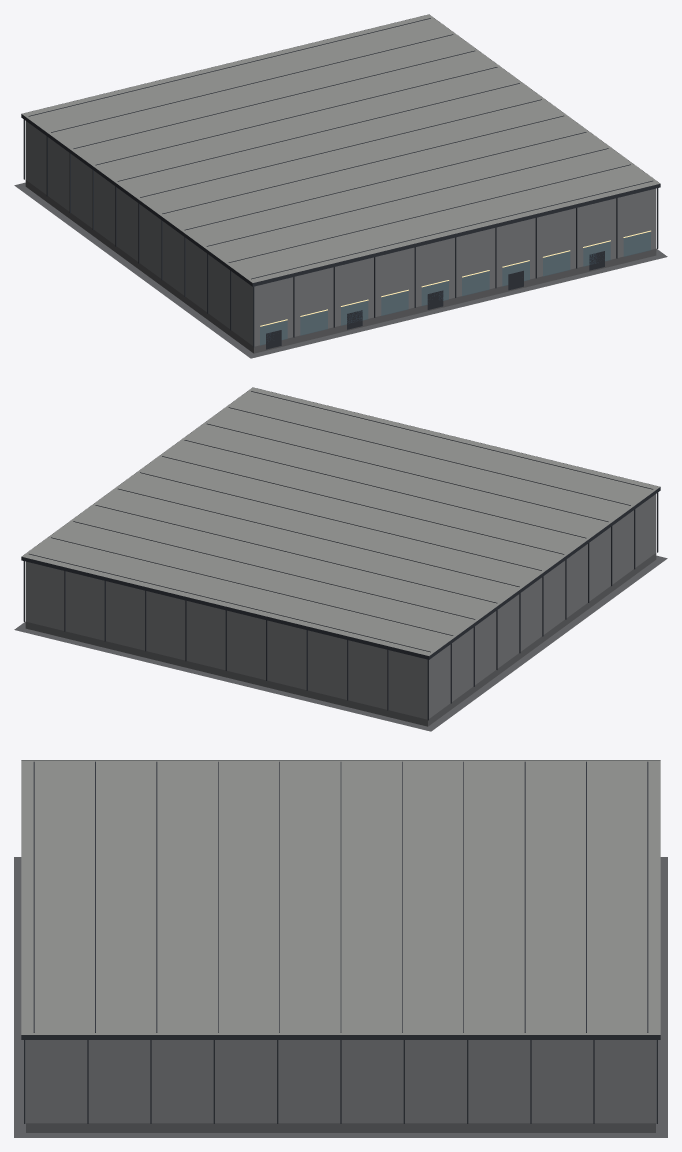
Rendered from shell.glb.
3 renders of one model, top to bottom at view 1: azimuth 30°, elevation 25°; view 2: azimuth 150°, elevation 25°; view 3: azimuth 270°, elevation 25°, orthographic. The views are drawn at different scales.
Parts seen in each view (by area): view 1: shell_roof_canopy, shell_bowl_mass_cladding, shell_roof_canopy_fascia, shell_bowl_mass_suite_glass_lobby, shell_bowl_mass_plinth, shell_field_floor_apron, shell_bowl_mass_facade_panels, shell_bowl_mass_portal_frames; view 2: shell_roof_canopy, shell_bowl_mass_cladding, shell_roof_canopy_fascia, shell_bowl_mass_plinth, shell_field_floor_apron, shell_bowl_mass_facade_panels; view 3: shell_roof_canopy, shell_bowl_mass_cladding, shell_field_floor_apron, shell_roof_canopy_fascia, shell_bowl_mass_plinth, shell_bowl_mass_facade_panels.
Part boxes in pixels (x1=…): shell_roof_canopy: x1=22, y1=14, x2=659, y2=282; shell_bowl_mass_cladding: x1=25, y1=121, x2=656, y2=346; shell_roof_canopy_fascia: x1=21, y1=14, x2=660, y2=286; shell_bowl_mass_suite_glass_lobby: x1=260, y1=231, x2=650, y2=345; shell_bowl_mass_plinth: x1=25, y1=180, x2=656, y2=353; shell_field_floor_apron: x1=14, y1=182, x2=667, y2=358; shell_bowl_mass_facade_panels: x1=23, y1=119, x2=658, y2=347; shell_bowl_mass_portal_frames: x1=266, y1=251, x2=604, y2=349; shell_roof_canopy: x1=22, y1=387, x2=659, y2=655; shell_bowl_mass_cladding: x1=25, y1=494, x2=656, y2=719; shell_roof_canopy_fascia: x1=21, y1=387, x2=660, y2=659; shell_bowl_mass_plinth: x1=25, y1=553, x2=656, y2=726; shell_field_floor_apron: x1=14, y1=555, x2=667, y2=731; shell_bowl_mass_facade_panels: x1=23, y1=492, x2=658, y2=720; shell_roof_canopy: x1=21, y1=760, x2=660, y2=1034; shell_bowl_mass_cladding: x1=26, y1=1040, x2=655, y2=1123; shell_field_floor_apron: x1=14, y1=857, x2=667, y2=1137; shell_roof_canopy_fascia: x1=21, y1=760, x2=660, y2=1039; shell_bowl_mass_plinth: x1=26, y1=1123, x2=655, y2=1132; shell_bowl_mass_facade_panels: x1=24, y1=1040, x2=657, y2=1123.
Bounding box in the file's own units: 74.27 × 12.39 × 73.03.
